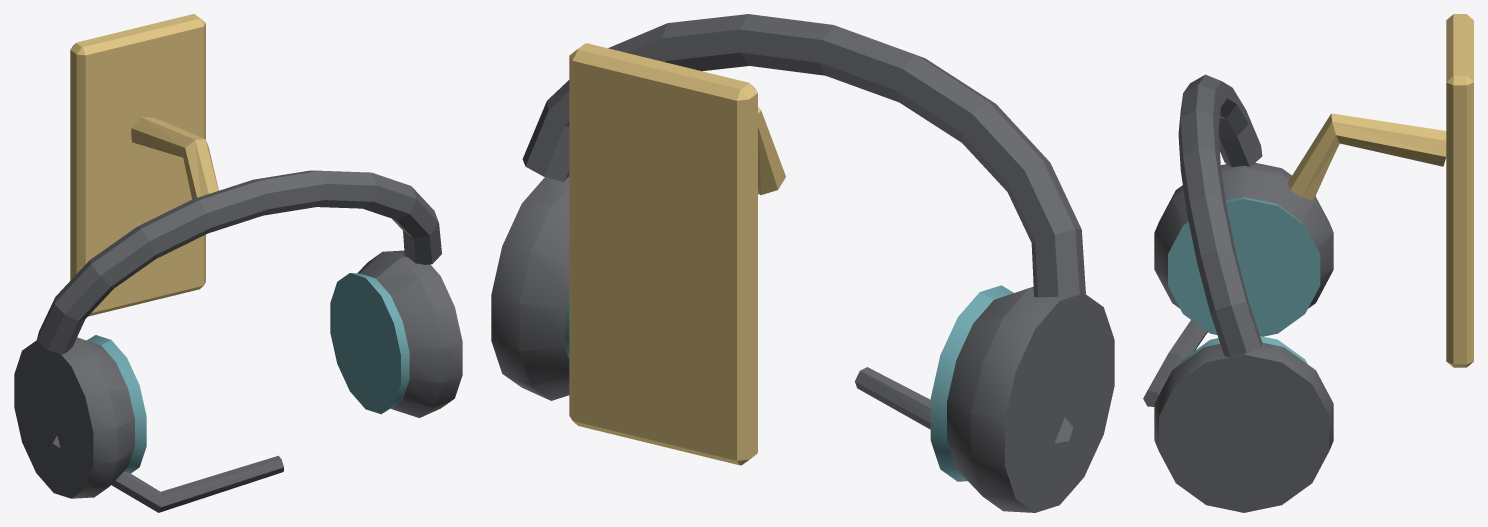
The model's file is escape-room-and-puzzle-venue-headset-on-hook-263014df__35801.glb.
3 renders of one model, left to right at view 1: azimuth 30°, elevation 25°; view 2: azimuth 150°, elevation 25°; view 3: azimuth 270°, elevation 25°, orthographic. The views are drawn at different scales.
Visible parts, largest first — view 1: headset-on-hook; view 2: headset-on-hook; view 3: headset-on-hook.
Part boxes in pixels (x1,y1,x2,y2): headset-on-hook: (14, 14, 462, 512); headset-on-hook: (491, 14, 1114, 512); headset-on-hook: (1143, 14, 1473, 512).
Bounding box in the file's own units: 0.217 × 0.1844 × 0.144.
